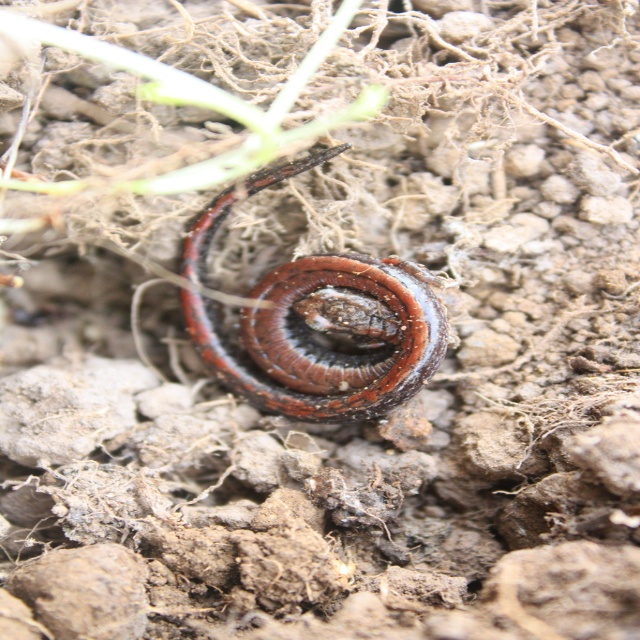Snake: (184, 148, 450, 427)
